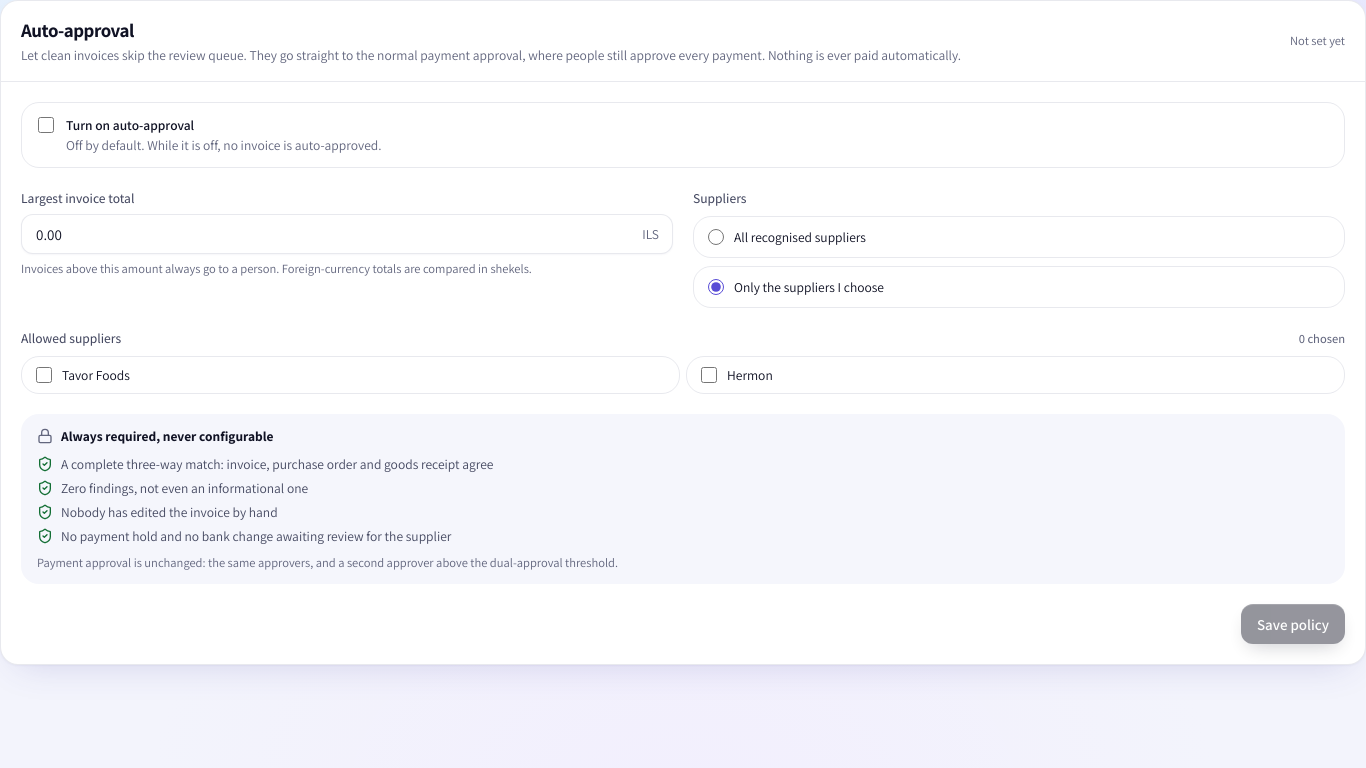
Test: auto-approval settings panel › will not save a selected-suppliers policy until a supplier is chosen
Later steps or results of the test are not shown.
Click the checkbox labelled "Turn on auto-approval".
click(46, 125)  # box 38,117 -> 54,133
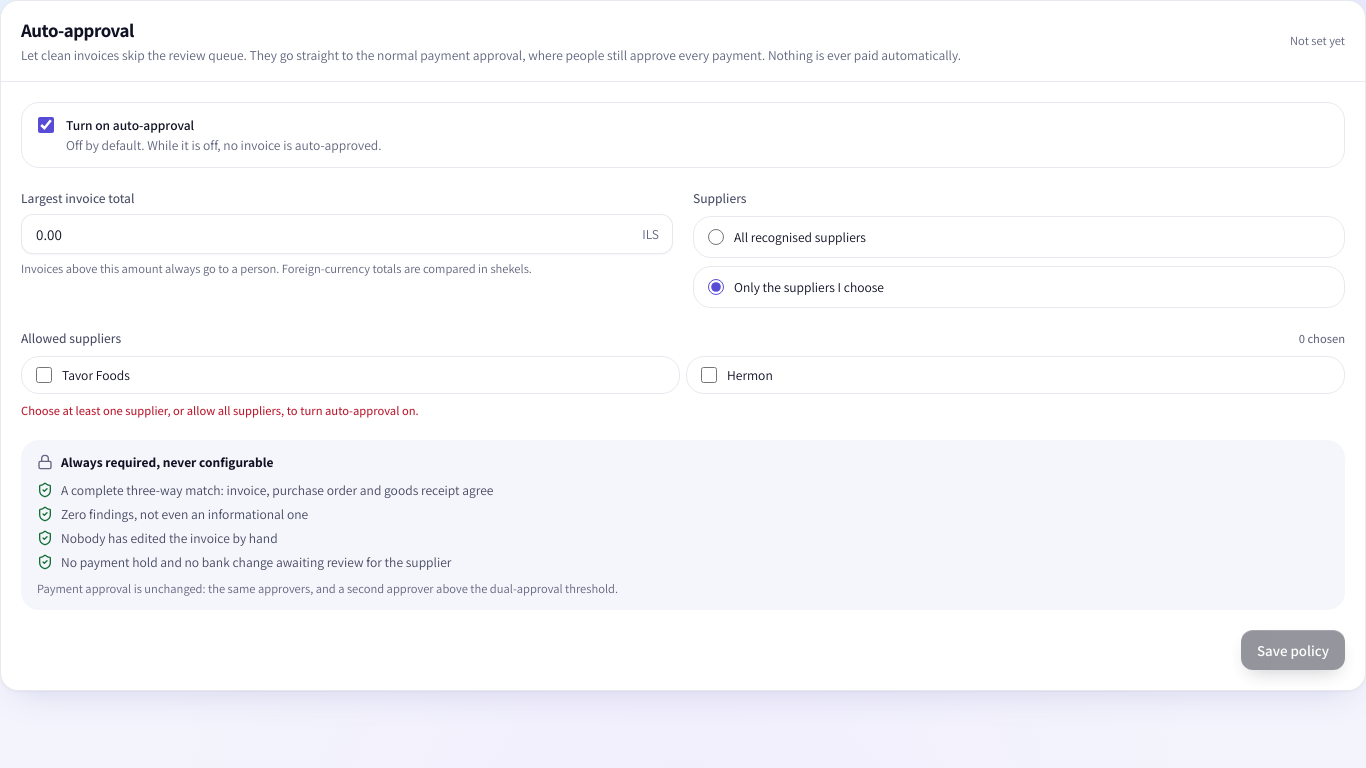
Replace the text in the field labelled "Largest invoice total" with "1000" at (347, 234), box 21,214 -> 673,254
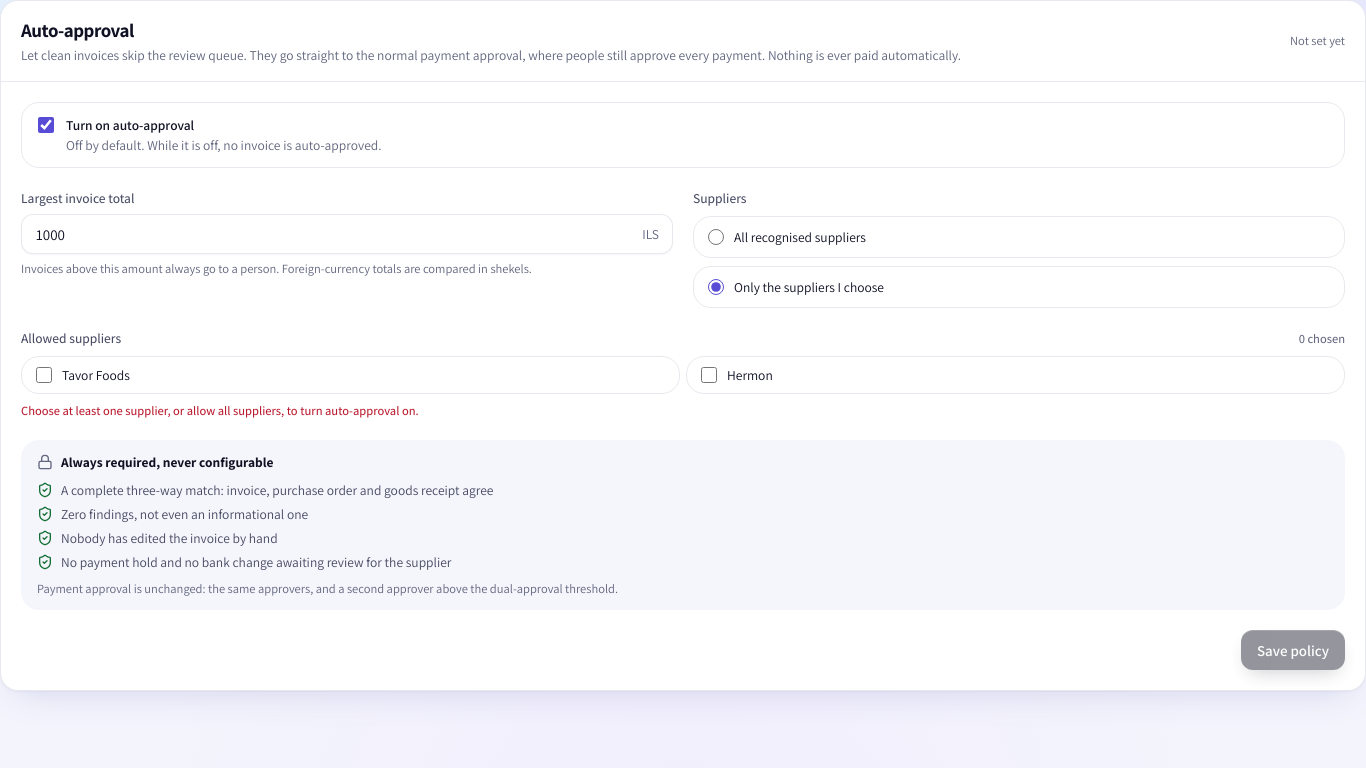
Expected: the button "Save policy" is disabled, 1241,630 -> 1345,670
Expected: the message shows "Choose at least one supplier", 21,402 -> 419,419
Click the checkbox labelled "Tavor Foods".
click(44, 375)  # box 36,367 -> 52,383
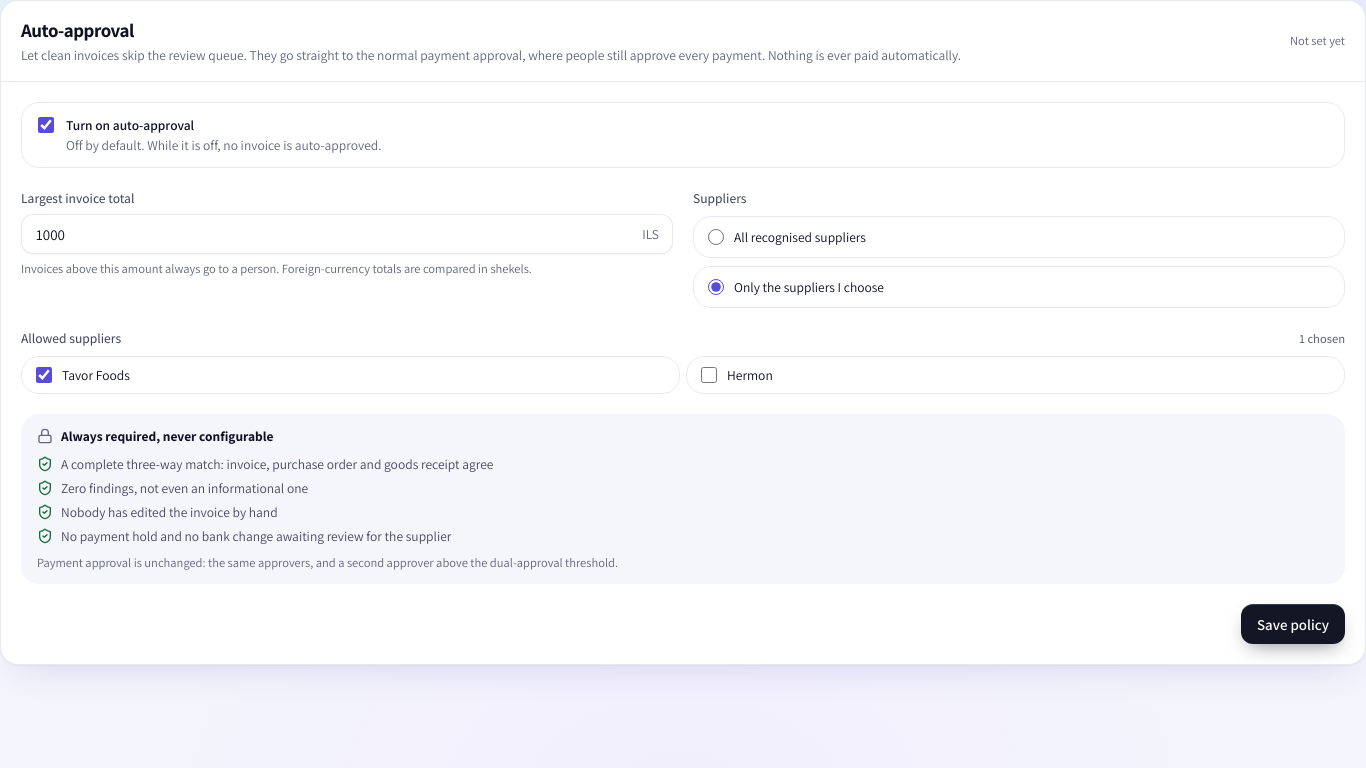
Expected: the message "Choose at least one supplier, or allow all suppliers, to turn auto-approval on." is gone
